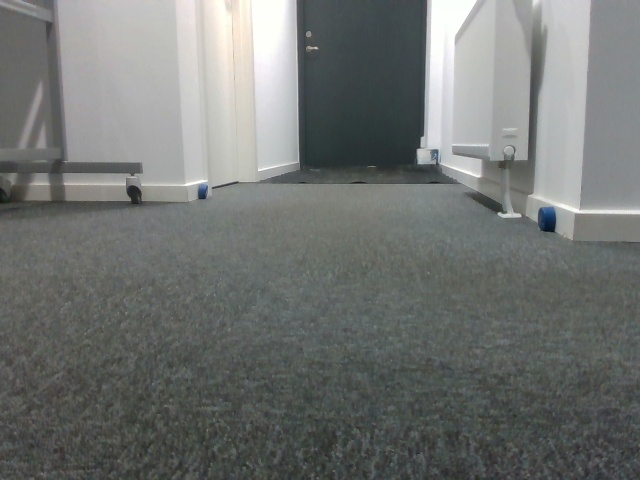alfa: (538, 205, 556, 232), (197, 182, 209, 199)
